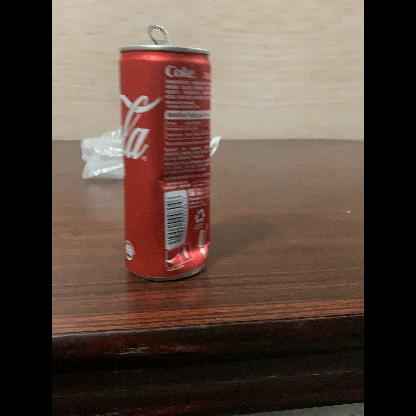Dent_Can: (152, 163, 210, 196), (164, 229, 210, 270)
Lid_Open: (144, 20, 182, 56)
Tin_Can: (114, 20, 220, 284)
